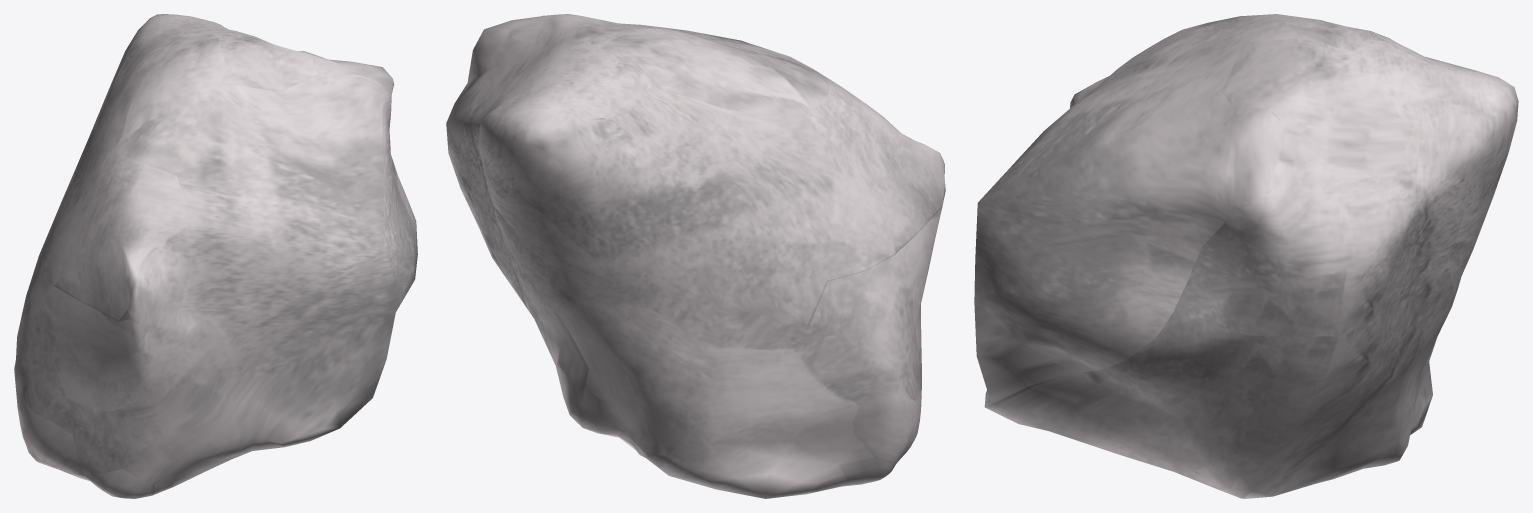
File: Rock_2_Color.fbx
3 renders of one model, left to right at view 1: azimuth 30°, elevation 25°; view 2: azimuth 150°, elevation 25°; view 3: azimuth 270°, elevation 25°, orthographic. The views are drawn at different scales.
Parts seen in each view (by area): view 1: pasted__pasted__group4; view 2: pasted__pasted__group4; view 3: pasted__pasted__group4.
Part boxes in pixels (x1,y1,x2,y2): pasted__pasted__group4: [14, 14, 417, 498]; pasted__pasted__group4: [446, 14, 945, 498]; pasted__pasted__group4: [974, 14, 1518, 498].
Bounding box in the file's own units: 0.624 × 0.5842 × 0.6085.
Materials: 1 (1 with a texture image).
